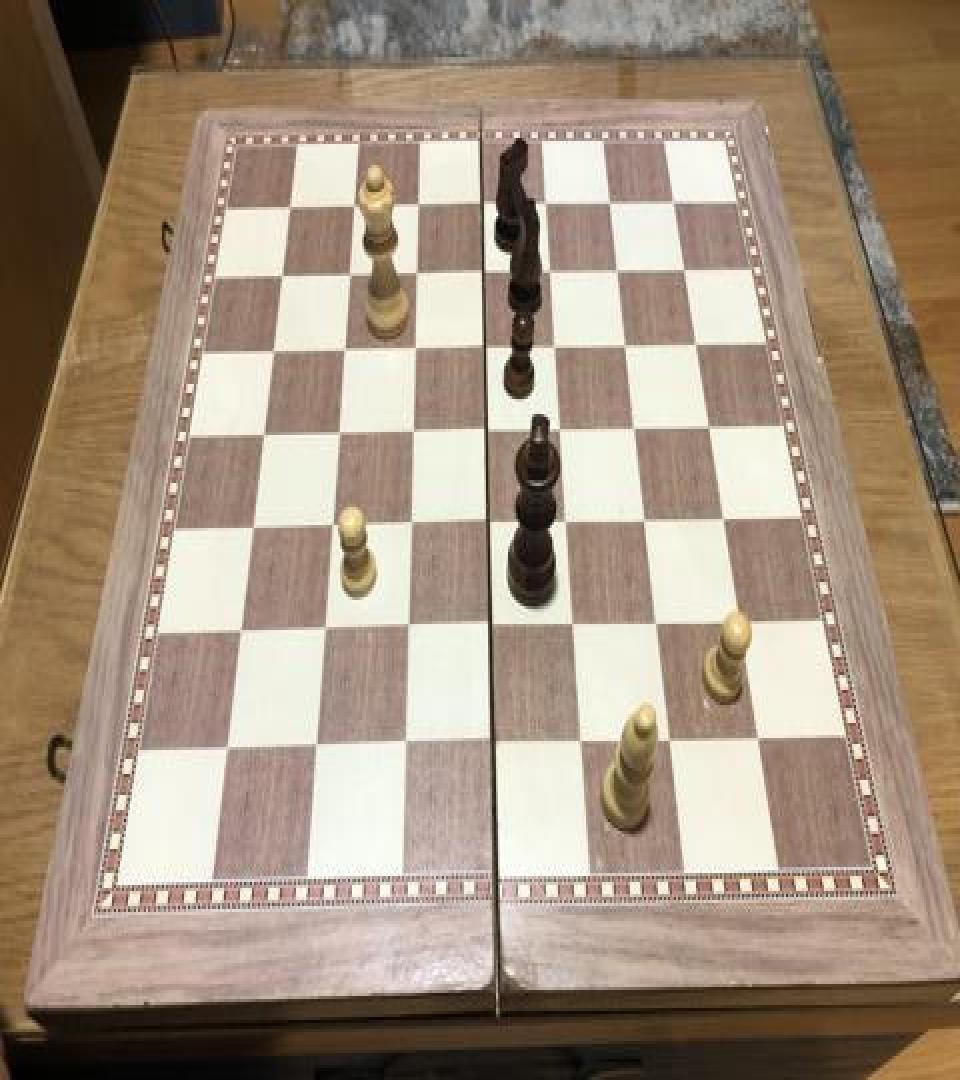xcorner: (398, 610, 422, 647), (661, 718, 685, 755), (395, 727, 419, 764), (665, 180, 689, 216), (600, 182, 624, 218), (536, 183, 560, 219), (471, 184, 495, 220), (407, 186, 431, 222), (277, 190, 301, 226), (676, 248, 700, 284), (608, 249, 632, 285), (541, 252, 565, 288), (473, 254, 497, 290), (405, 255, 429, 291), (337, 256, 361, 292), (688, 322, 712, 358), (617, 324, 641, 360), (546, 327, 570, 363), (404, 330, 428, 366), (332, 333, 356, 369), (261, 334, 285, 370), (701, 405, 725, 441), (626, 408, 650, 444), (551, 410, 575, 446), (402, 414, 426, 450), (327, 416, 351, 452), (252, 418, 276, 454), (715, 498, 739, 534), (636, 500, 660, 536), (558, 502, 582, 538), (479, 504, 503, 540), (400, 507, 424, 543), (321, 508, 345, 544), (242, 512, 266, 548), (731, 600, 755, 636), (648, 603, 672, 639), (565, 606, 589, 642), (481, 608, 505, 644), (314, 614, 338, 650), (230, 615, 254, 651), (750, 716, 774, 752), (573, 722, 597, 758), (484, 724, 508, 760), (306, 729, 330, 765), (217, 732, 241, 768), (342, 188, 366, 223), (270, 260, 294, 295), (475, 329, 499, 364), (477, 413, 501, 448)
